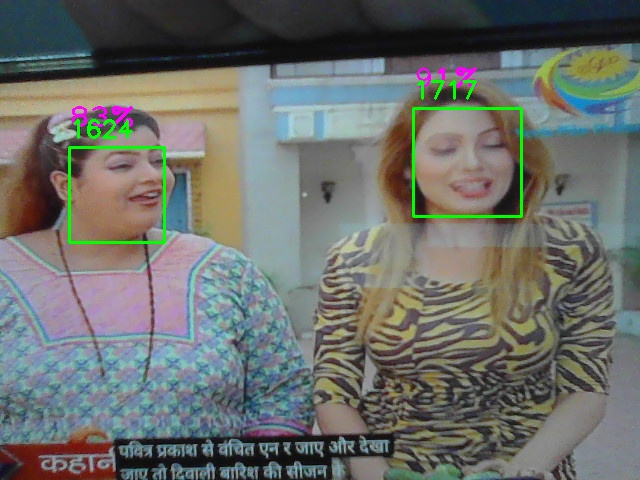fake: (413, 108, 522, 217), (69, 147, 165, 243)
